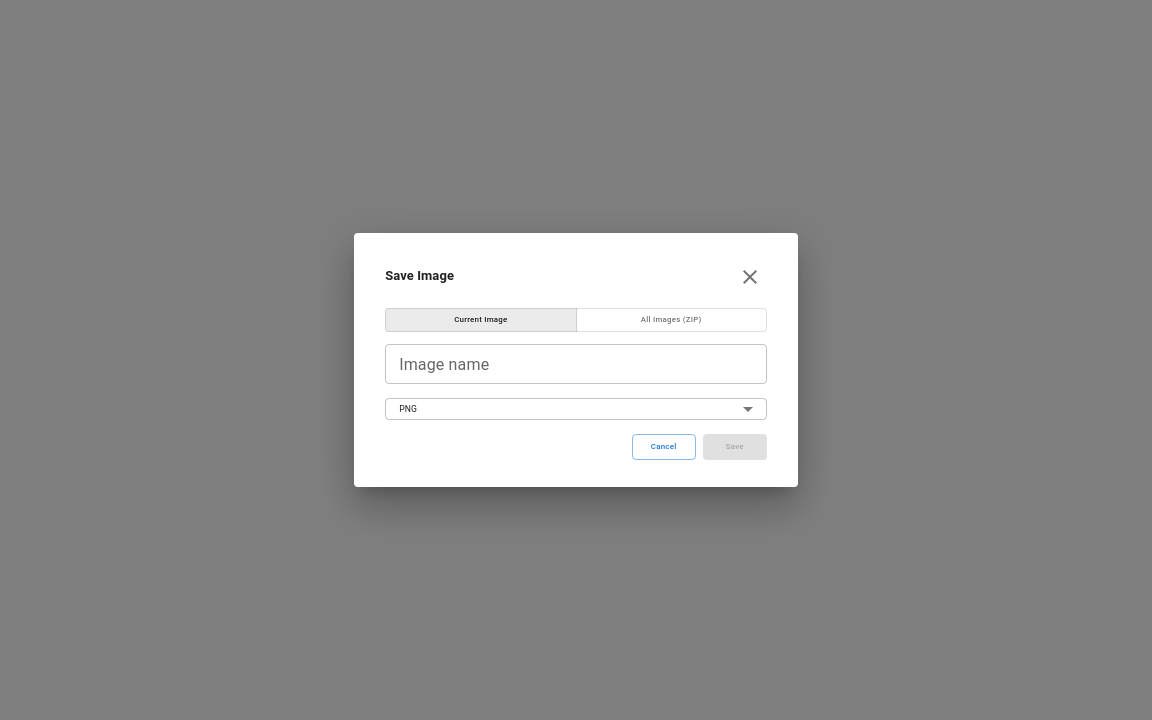
SaveDialog › close and cancel behavior › resets to individual mode when Cancel is clicked
Click the button "All Images (ZIP)": x=671, y=320 [576, 308, 767, 332]
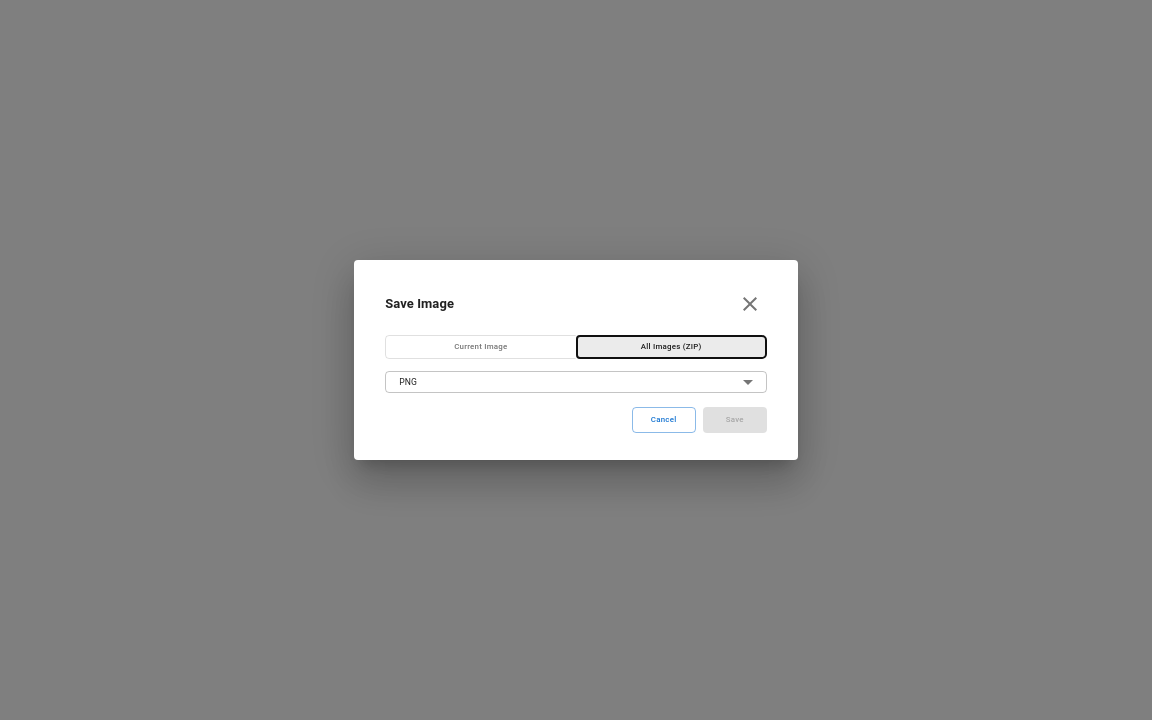
Click the button "Cancel": x=664, y=420 [632, 407, 696, 433]
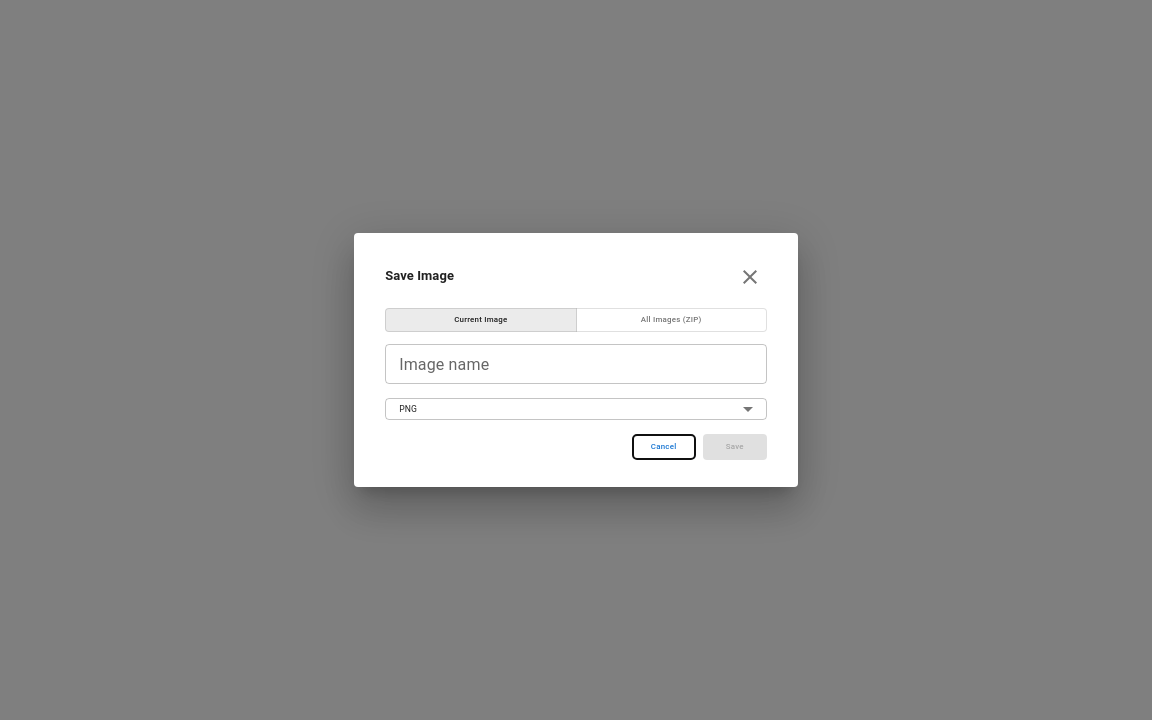
Now the field is shown, box [385, 344, 767, 384]
